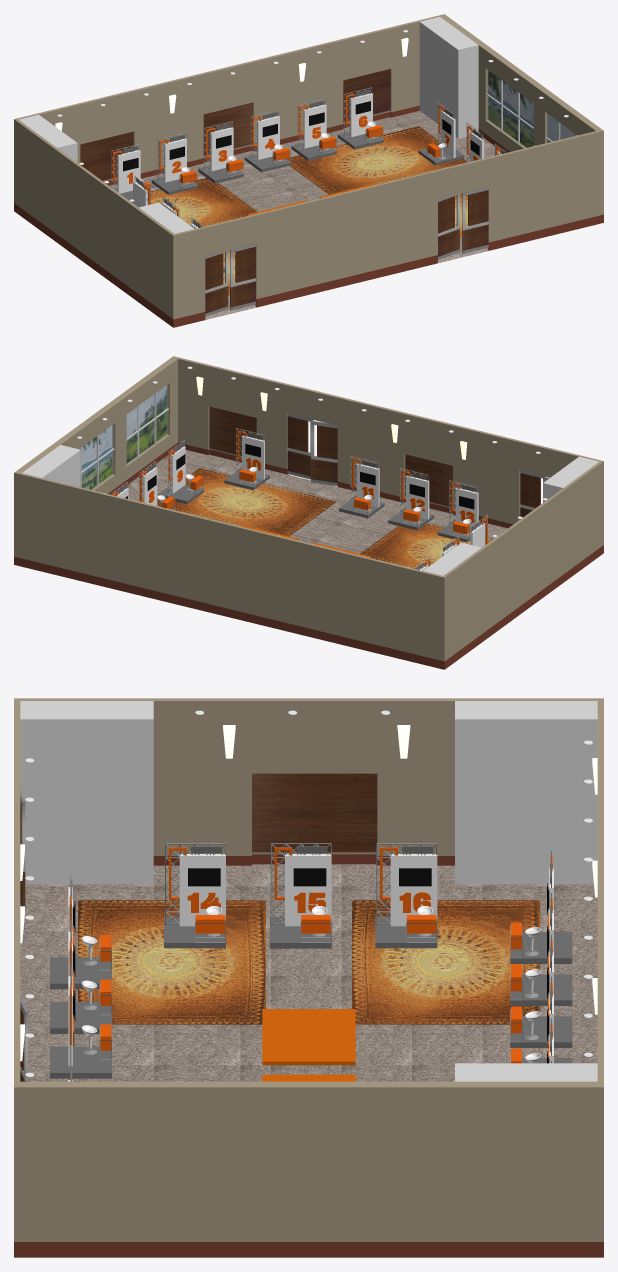
The model's file is StandsV2.gltf.
3 renders of one model, top to bottom at view 1: azimuth 30°, elevation 25°; view 2: azimuth 150°, elevation 25°; view 3: azimuth 270°, elevation 25°, orthographic. The views are drawn at different scales.
Visible parts, largest first — view 1: Cube, Cube.001, Cube.004, Plane.007, Plane.009, Plane.010, Plane, Cube.031, Plane.002, Plane.004, Plane.005, Plane.003 (+5 smaller); view 2: Cube, Plane.006, Cube.008, Plane.010, Plane.008, Cube.031, Plane.001, Cube.009, Plane.003, Cube.004, Plane.002, Plane (+5 smaller); view 3: Plane.012, Cube, Cube.003, Cube.002, Plane.008, Plane.009, Cube.007, Cube.001, Cube.008, Cube.041, Cube.004.
Boxes of the visible parts, <box> form: Cube: <box>14,15,600,327</box>; Cube.001: <box>111,87,383,202</box>; Cube.004: <box>419,17,478,138</box>; Plane.007: <box>286,126,467,194</box>; Plane.009: <box>148,178,257,227</box>; Plane.010: <box>488,70,575,147</box>; Plane: <box>487,70,533,147</box>; Cube.031: <box>418,101,507,165</box>; Plane.002: <box>462,187,488,253</box>; Plane.004: <box>230,243,255,310</box>; Plane.005: <box>205,250,228,316</box>; Plane.003: <box>438,194,459,259</box>; Cube: <box>17,357,603,669</box>; Plane.006: <box>157,468,336,536</box>; Cube.008: <box>339,456,478,542</box>; Plane.010: <box>81,385,166,489</box>; Plane.008: <box>360,523,492,569</box>; Cube.031: <box>111,440,203,510</box>; Plane.001: <box>127,385,167,464</box>; Cube.009: <box>224,428,269,490</box>; Plane.003: <box>311,420,337,485</box>; Cube.004: <box>22,445,80,487</box>; Plane.002: <box>287,413,313,479</box>; Plane: <box>82,424,113,489</box>; Plane.012: <box>14,1084,603,1257</box>; Cube: <box>14,698,603,1084</box>; Cube.003: <box>455,701,597,884</box>; Cube.002: <box>20,701,153,884</box>; Plane.008: <box>78,900,265,1024</box>; Plane.009: <box>352,900,540,1024</box>; Cube.007: <box>164,843,437,948</box>; Cube.001: <box>510,851,572,1063</box>; Cube.008: <box>50,875,111,1078</box>; Cube.041: <box>262,1009,355,1081</box>; Cube.004: <box>455,1063,597,1081</box>.
Size of what is drawn, in the model's own units: 29.63 by 6.05 by 19.
Materials: 20 (5 with a texture image).
